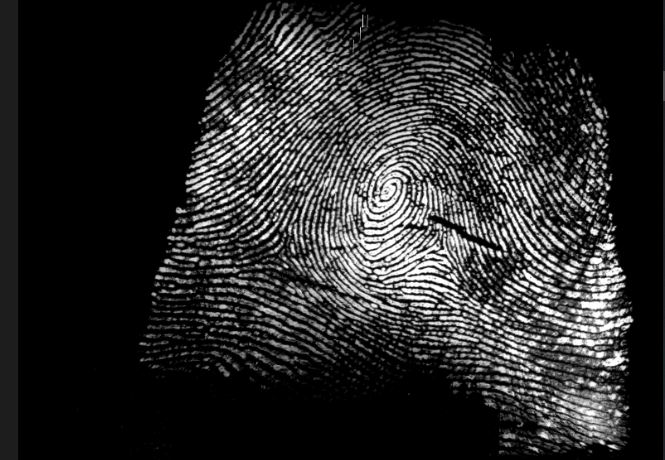deltas: (248, 221, 309, 283), (417, 228, 460, 274)
nucleo: (357, 157, 424, 223)
